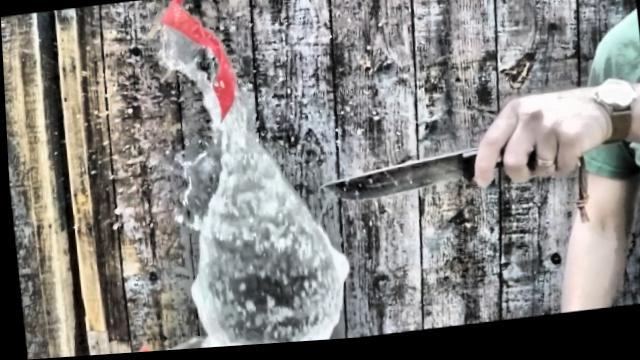knife: (303, 91, 556, 218)
